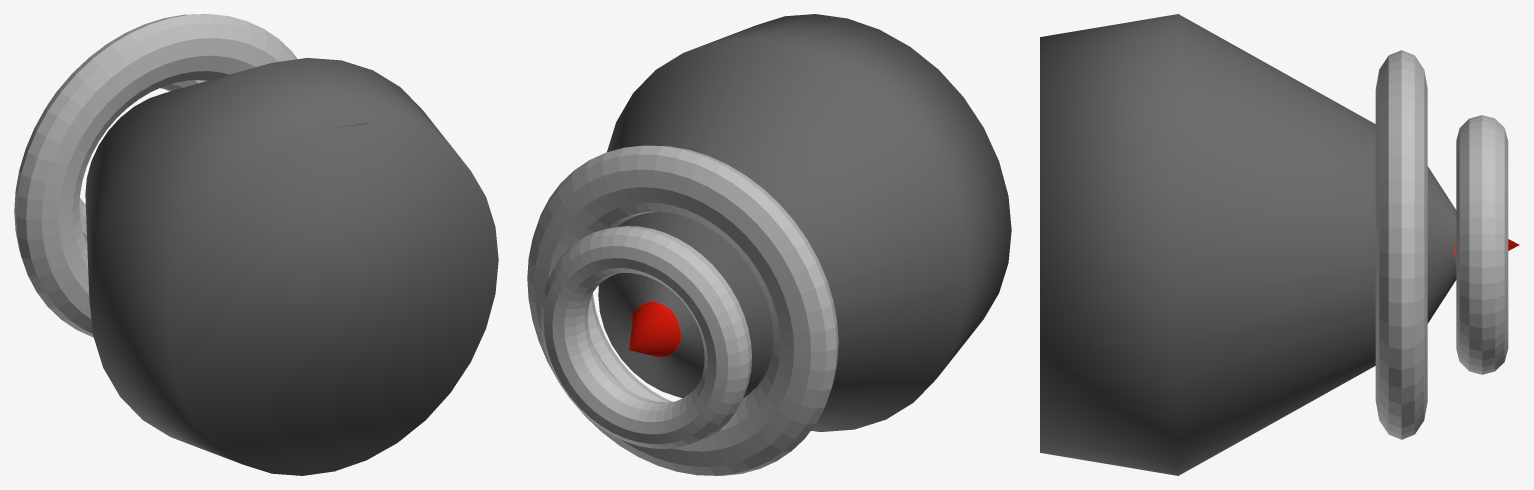
Rendered from bossEnemyGun.obj.
The picture shows the model from 3 angles, left to right: view 1: azimuth 30°, elevation 25°; view 2: azimuth 150°, elevation 25°; view 3: azimuth 270°, elevation 25°; orthographic projection. The views are drawn at different scales.
Visible parts, largest first — view 1: トーラス; view 2: トーラス; view 3: トーラス.
Part boxes in pixels (bbox=[...]): トーラス: bbox=[14, 14, 498, 475]; トーラス: bbox=[527, 14, 1011, 475]; トーラス: bbox=[1040, 14, 1519, 475].
Size of the model in its own units: 4.44 by 4.44 by 4.61.
1 material, 1 textured.
